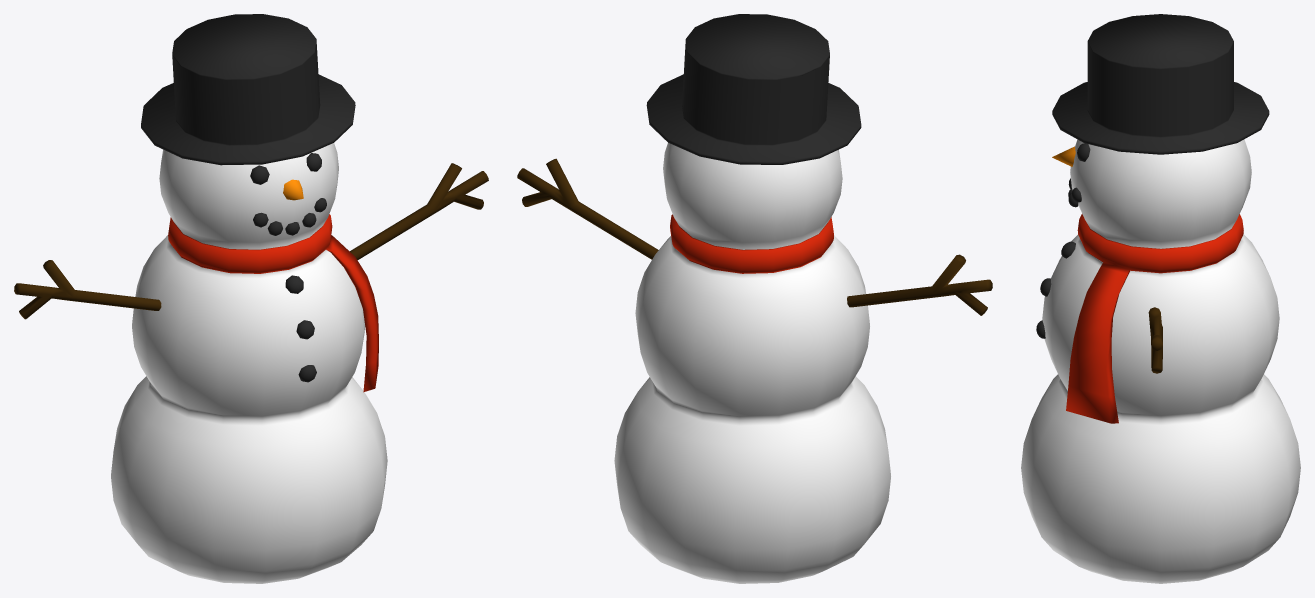
File: snowman.fbx
3 views of the same model, side by side, from view 1: azimuth 30°, elevation 25°; view 2: azimuth 150°, elevation 25°; view 3: azimuth 270°, elevation 25° (orthographic).
Parts seen in each view (by area): view 1: snowman; view 2: snowman; view 3: snowman.
Boxes of the visible parts, left/top/right/bottom form: snowman: left=14, top=14, right=488, bottom=583; snowman: left=517, top=14, right=992, bottom=583; snowman: left=1021, top=14, right=1300, bottom=583.
Size of the model in its own units: 390 by 406 by 200.
1 material, 1 textured.
